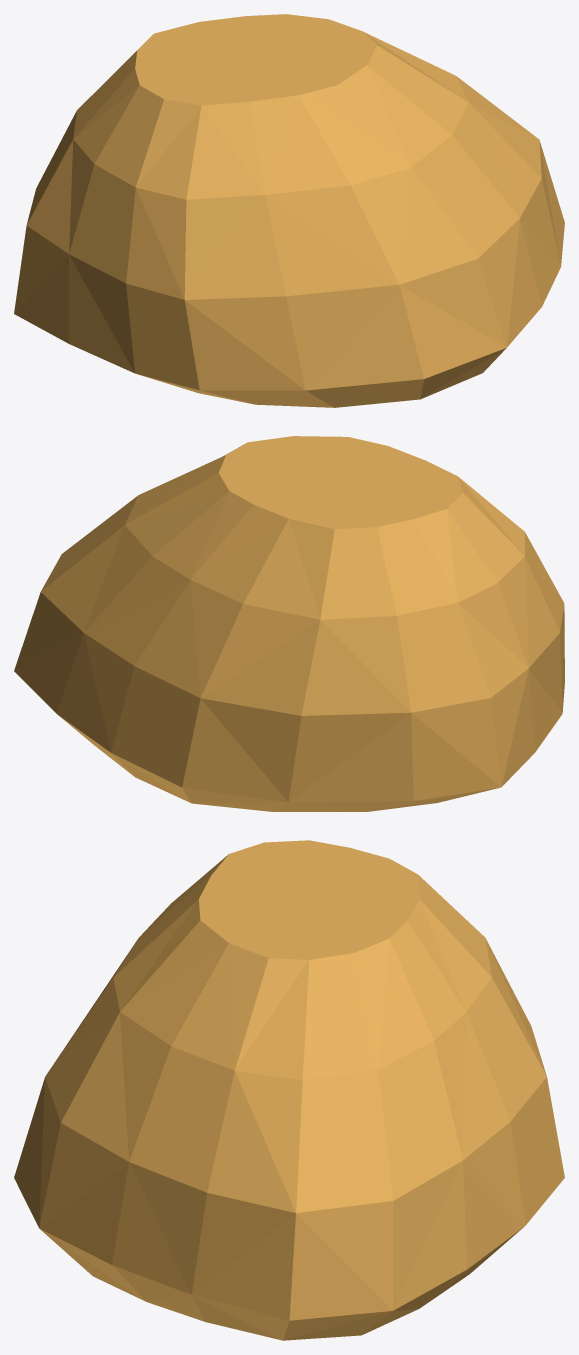
Rendered from pedra_amarela.glb.
3 views of the same model, one above another, from view 1: azimuth 30°, elevation 25°; view 2: azimuth 150°, elevation 25°; view 3: azimuth 270°, elevation 25° (orthographic). The views are drawn at different scales.
Parts seen in each view (by area): view 1: Pedra_Amarela; view 2: Pedra_Amarela; view 3: Pedra_Amarela.
Boxes of the visible parts, box(x1,y1,x2,y2) form: Pedra_Amarela: box(14, 14, 564, 407); Pedra_Amarela: box(14, 436, 564, 811); Pedra_Amarela: box(14, 840, 564, 1340).
Size of the model in its own units: 1.96 by 1.02 by 1.67.
